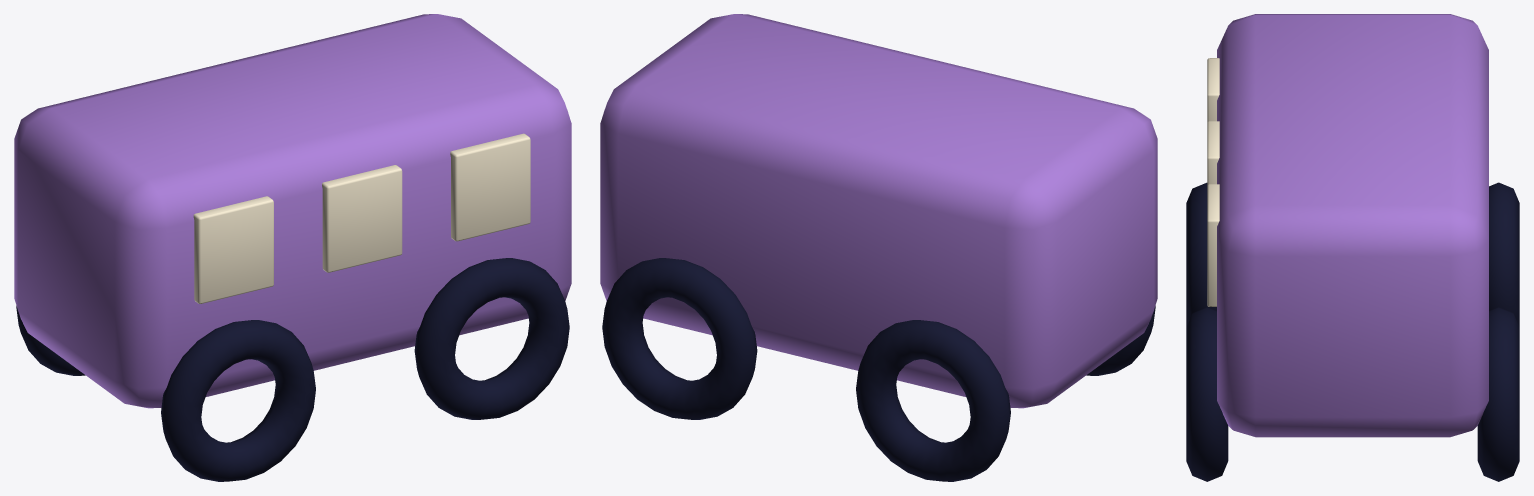
Rendered from r021_sky_lagoon_train_presentation_train_03.glb.
3 views of the same model, side by side, from view 1: azimuth 30°, elevation 25°; view 2: azimuth 150°, elevation 25°; view 3: azimuth 270°, elevation 25° (orthographic).
Parts seen in each view (by area): view 1: r021_sky_lagoon_train_presentation_train_03.001; view 2: r021_sky_lagoon_train_presentation_train_03.001; view 3: r021_sky_lagoon_train_presentation_train_03.001.
Part boxes in pixels (box(x1,y1,x2,y2)): r021_sky_lagoon_train_presentation_train_03.001: box(14, 14, 571, 481); r021_sky_lagoon_train_presentation_train_03.001: box(600, 14, 1157, 481); r021_sky_lagoon_train_presentation_train_03.001: box(1186, 14, 1519, 481).
Bounding box in the file's own units: 3 × 1.89 × 1.9.
